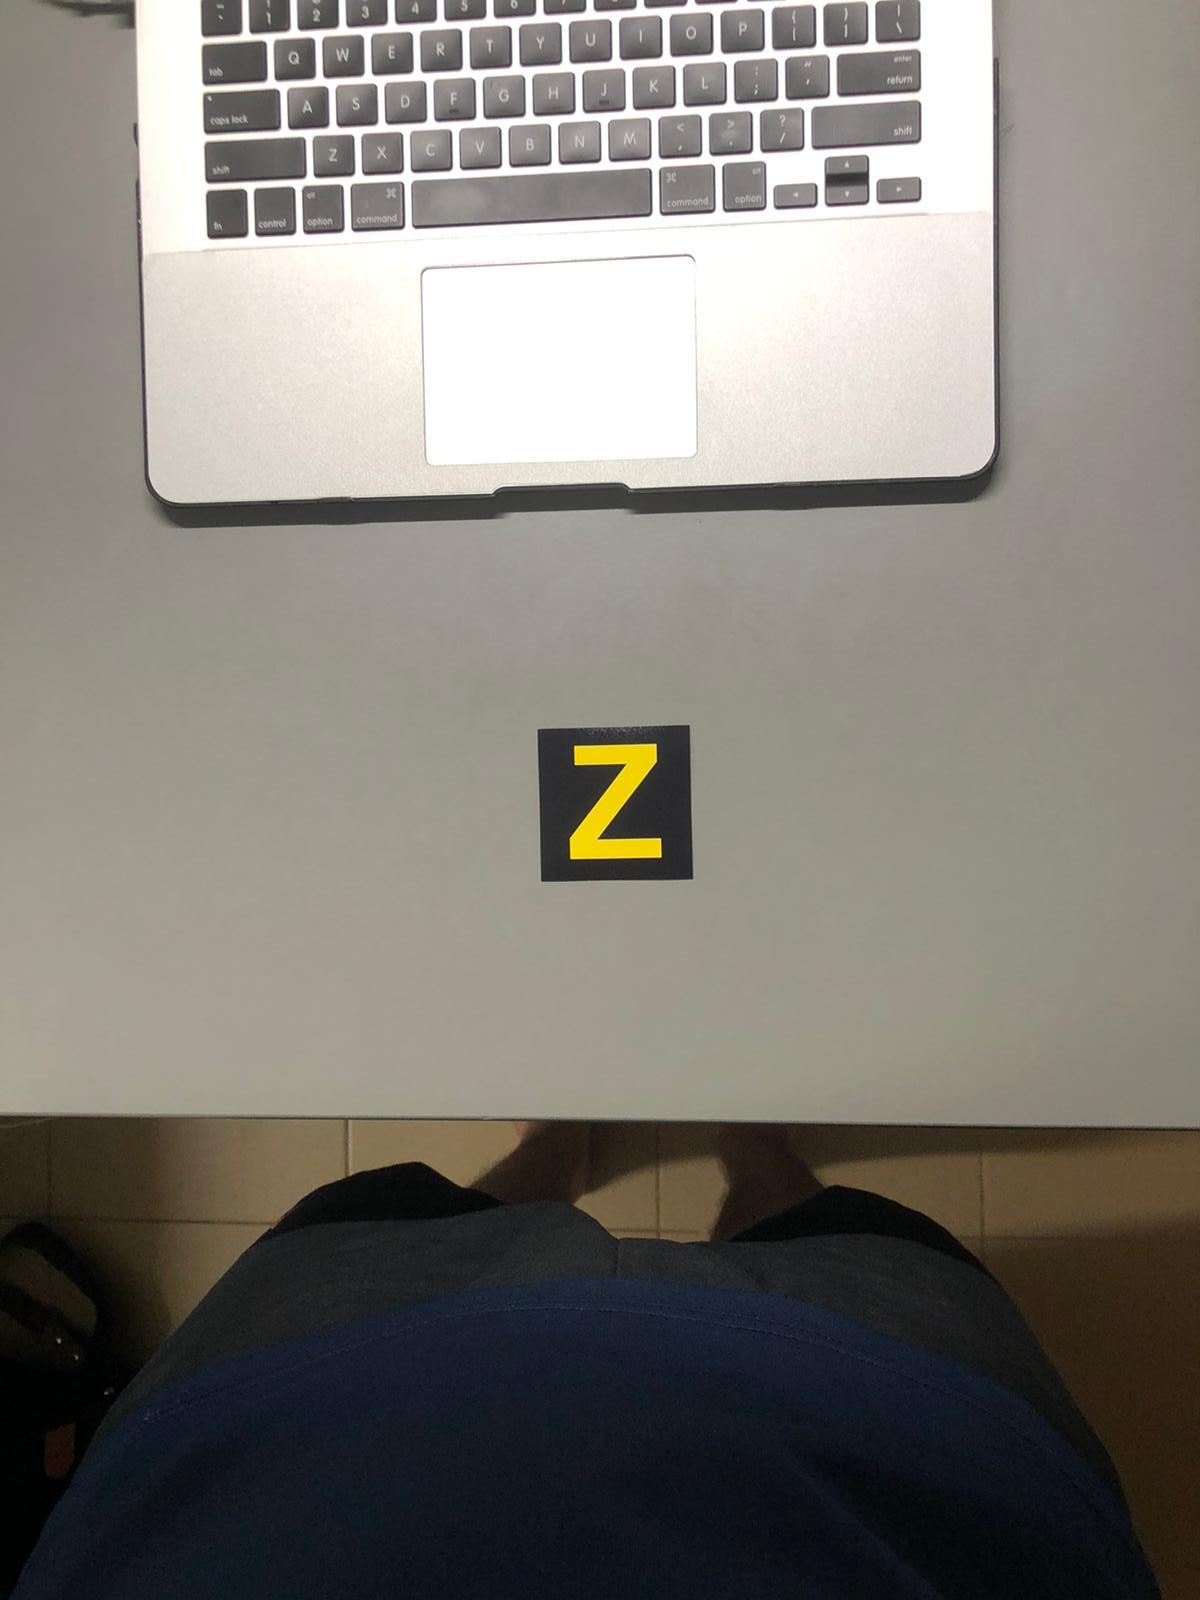Z: (539, 729, 687, 881)
